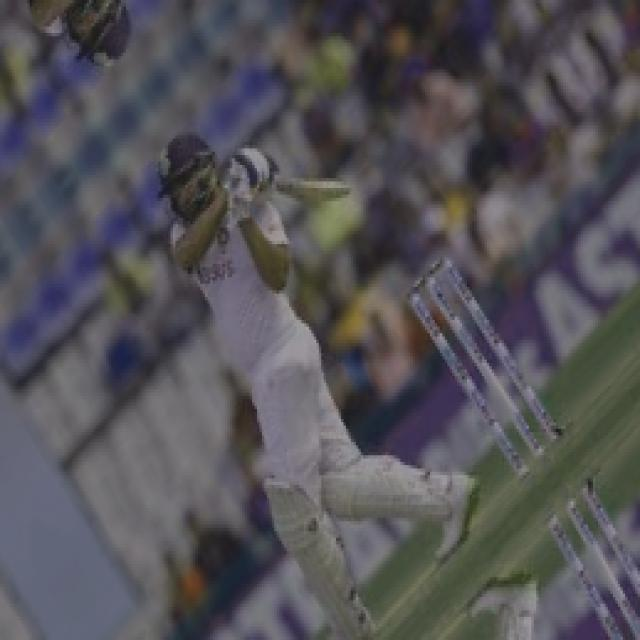toe: (327, 175, 353, 209)
